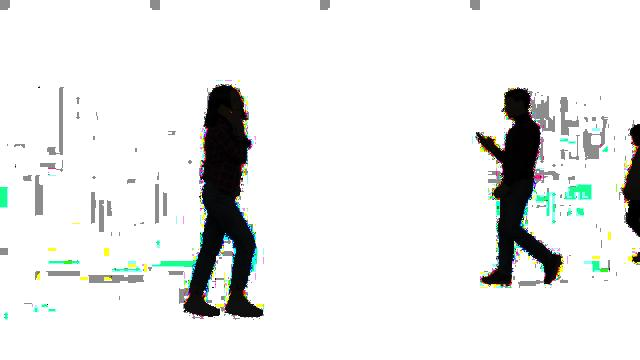berjalan: (180, 81, 268, 320), (474, 88, 560, 286)
